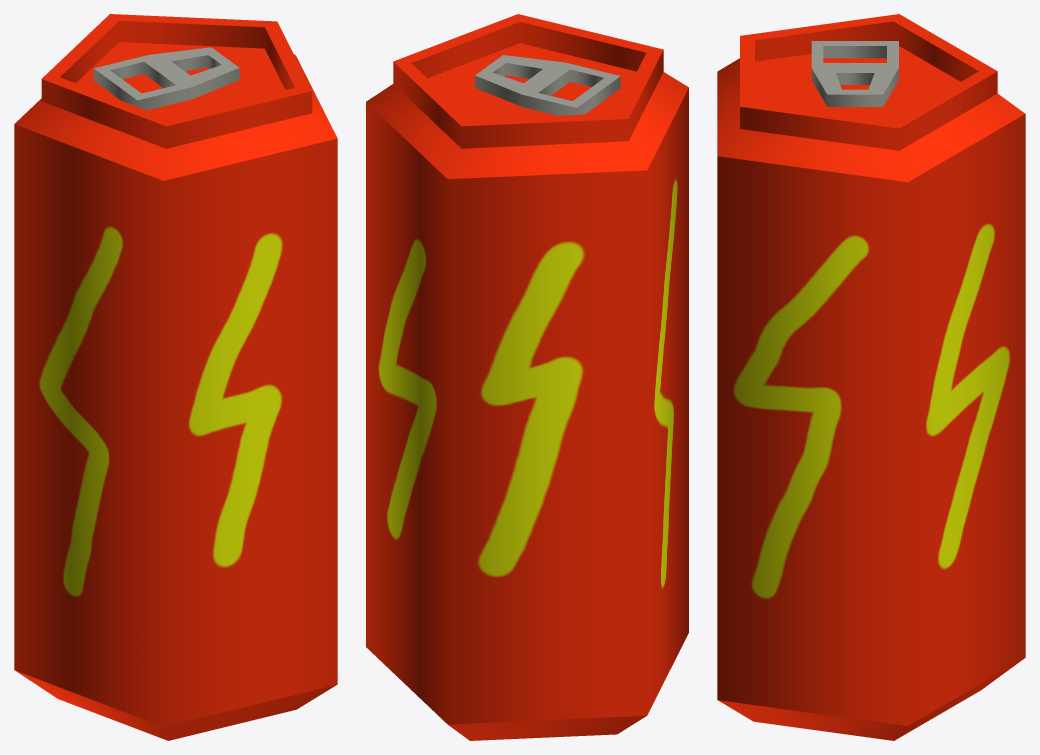
The model's file is energy_drink.glb.
3 renders of one model, left to right at view 1: azimuth 30°, elevation 25°; view 2: azimuth 150°, elevation 25°; view 3: azimuth 270°, elevation 25°, orthographic.
Parts seen in each view (by area): view 1: Circle.002; view 2: Circle.002; view 3: Circle.002.
Boxes of the visible parts, x1,y1,x2,y2 form: Circle.002: (14,14,337,740); Circle.002: (366,14,688,740); Circle.002: (717,14,1025,740).
Size of the model in its own units: 0.2379 by 0.5017 by 0.2262.
Materials: 1 (1 with a texture image).
